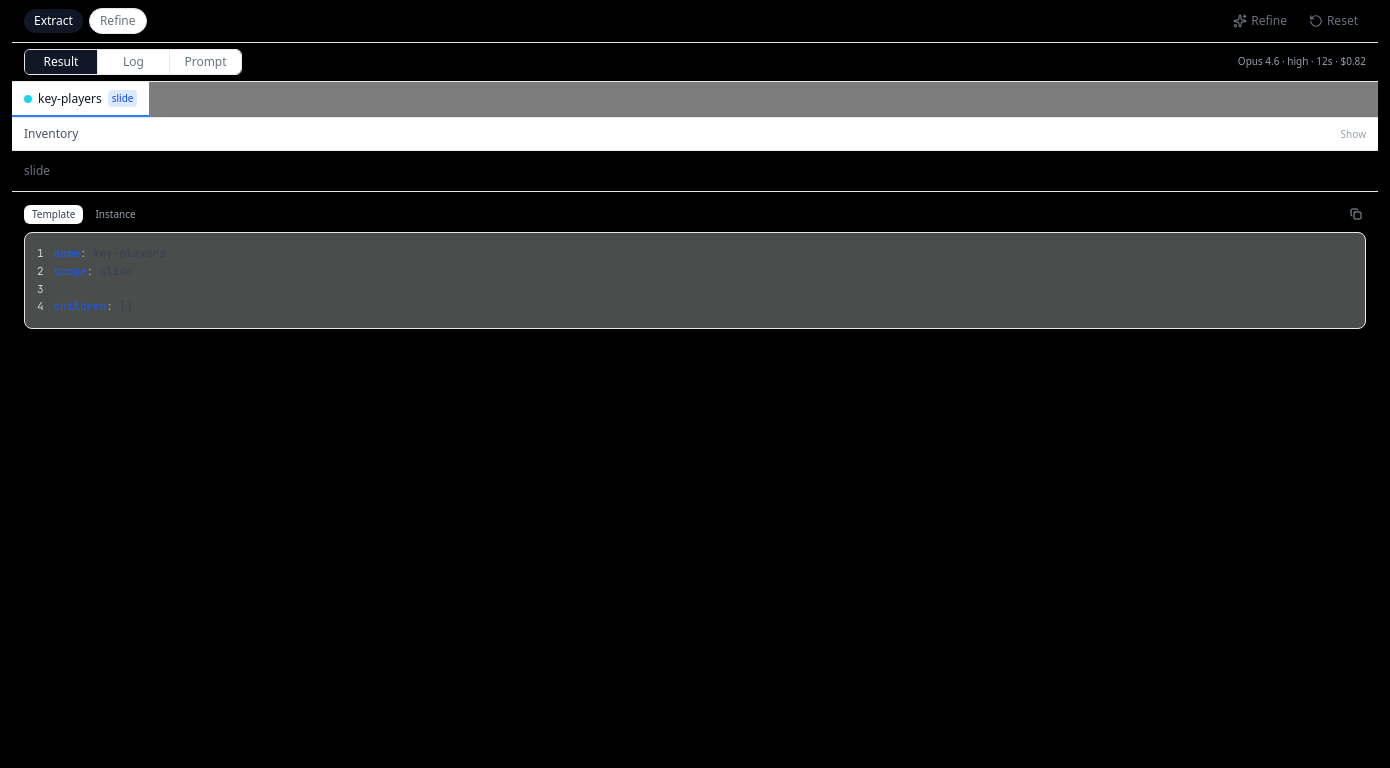
Test: TemplateInspector › renders inventory panel when analysis.inventory exists
Expected: the text "warm glow" is not shown
Click the text "Inventory": click(51, 134) [24,126,78,142]
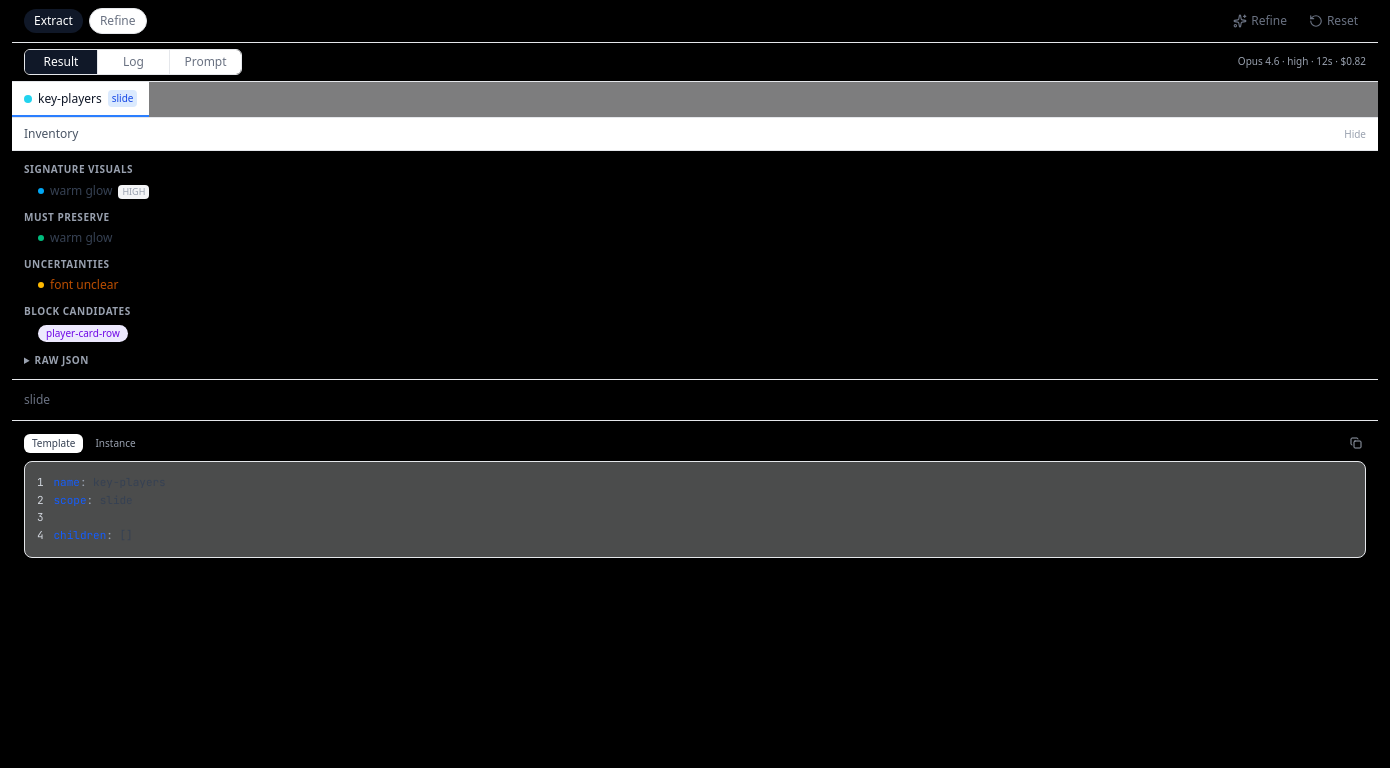
Result: the text "Signature Visuals" is shown at [24,162,133,176]
Result: the text "warm glow" below "Signature Visuals" is shown at [50,182,112,199]
Result: the text "Must Preserve" is shown at [24,210,110,224]
